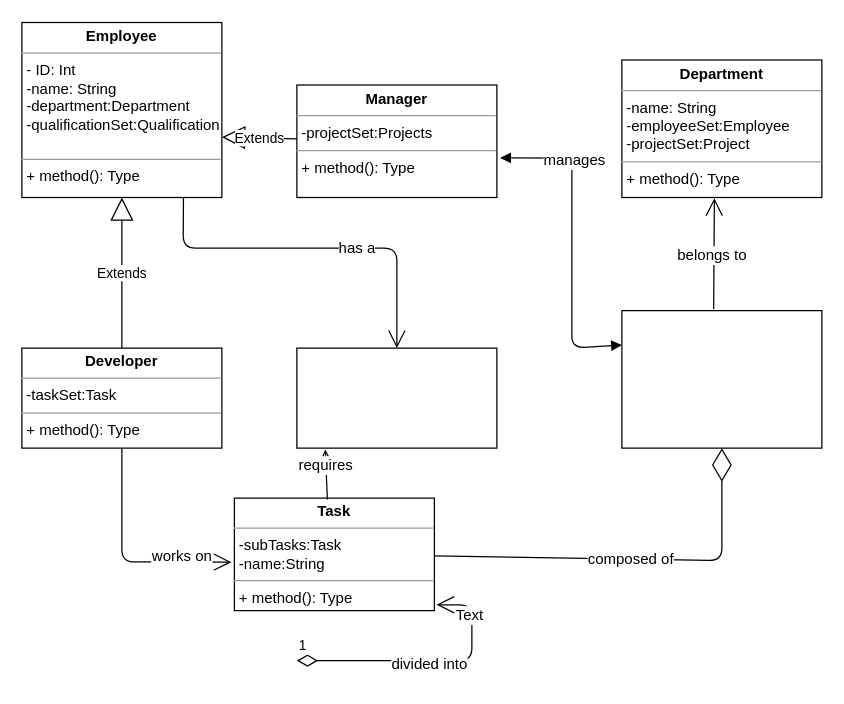
The diagram is 844 pixels wide and 704 high, and some of its shapes have lost their labels. Each missing label, with the centre of its shape:
Project - head: Manager - taskSet: Task - name: String + method(): Type: the point at 721,378
Qualification -name:String + method(): Type: the point at 396,397
